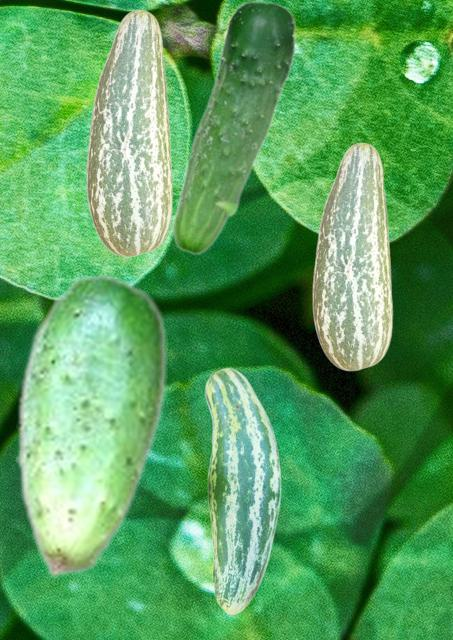cucumber: (16, 272, 166, 577), (171, 0, 296, 254), (86, 9, 172, 256), (204, 367, 280, 614), (312, 142, 392, 370)
